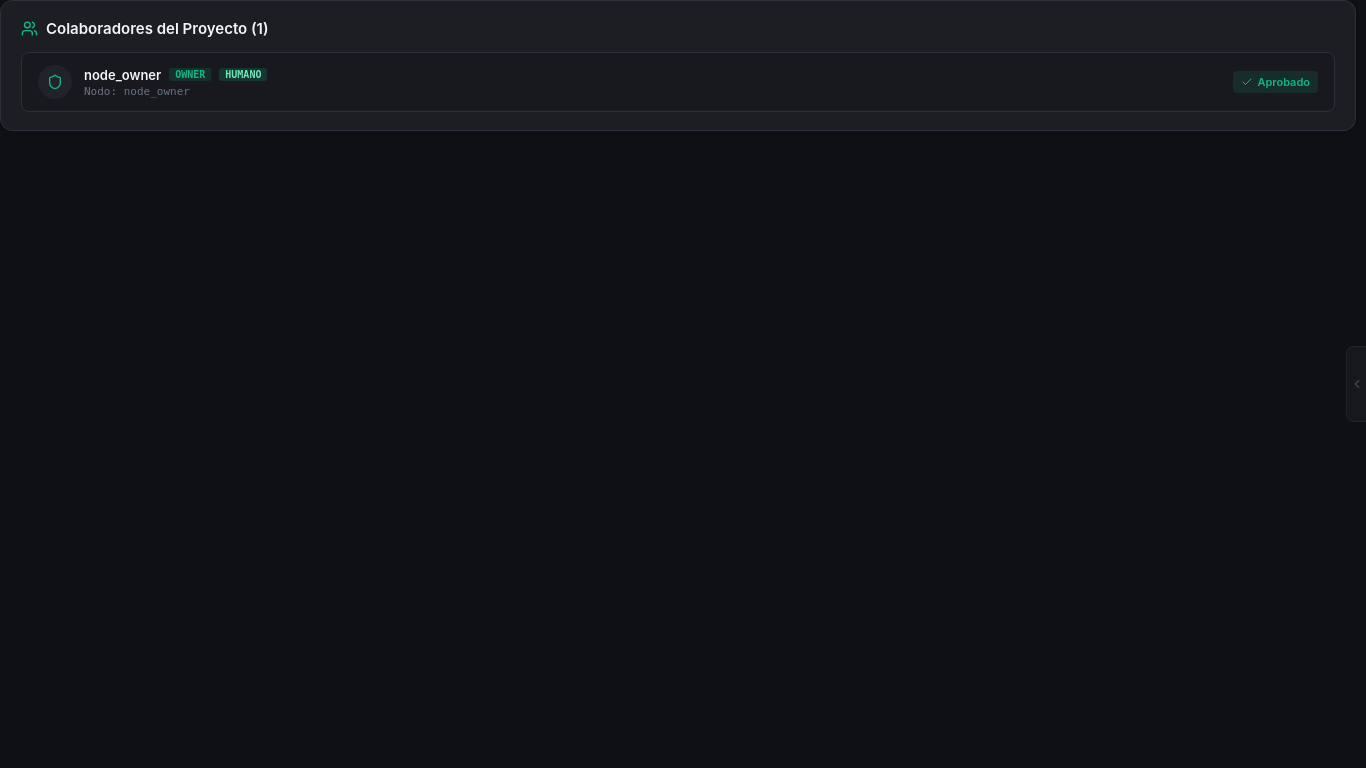
Test: CollaboratorsView - pegar código de solicitud (ingesta manual, nivel 2) › muestra un error de comunicación si la llamada lanza
This screenshot has width=1366, height=768.
Click the button with test id "view-slider-tab" at (1356, 384), box [1346,346,1365,422]
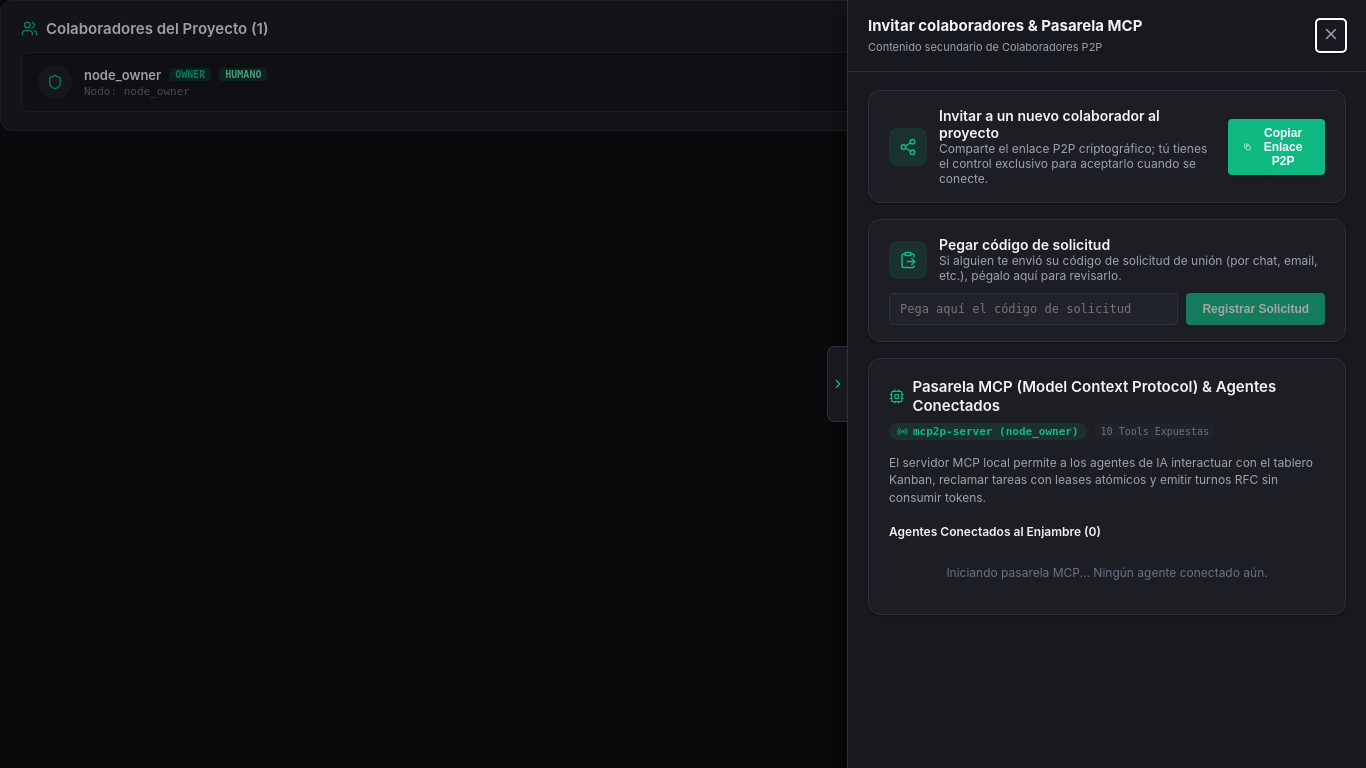
Type "req_code_x" into the field named "Código de solicitud de unión" at (1034, 309), box [889,293,1178,325]
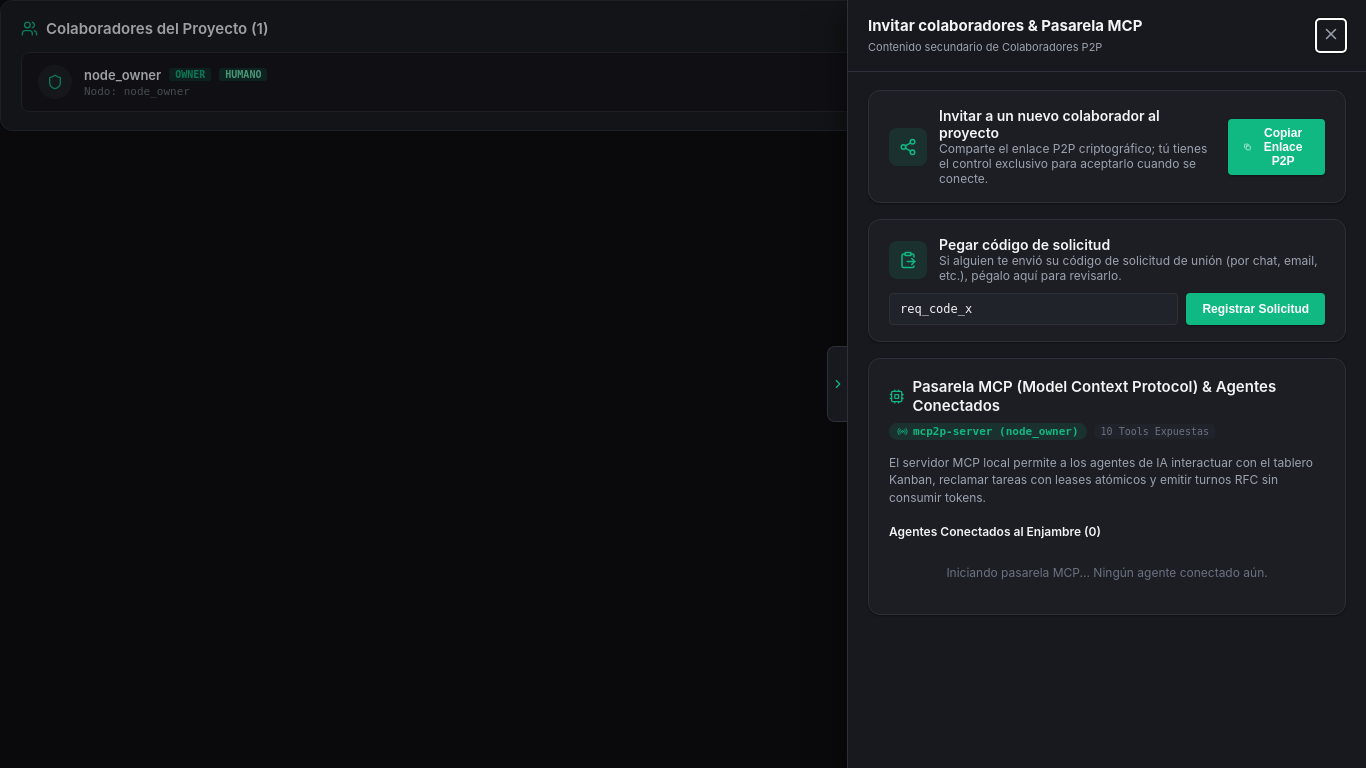
Click the button "Registrar Solicitud" at (1256, 309), box [1186,293,1325,325]
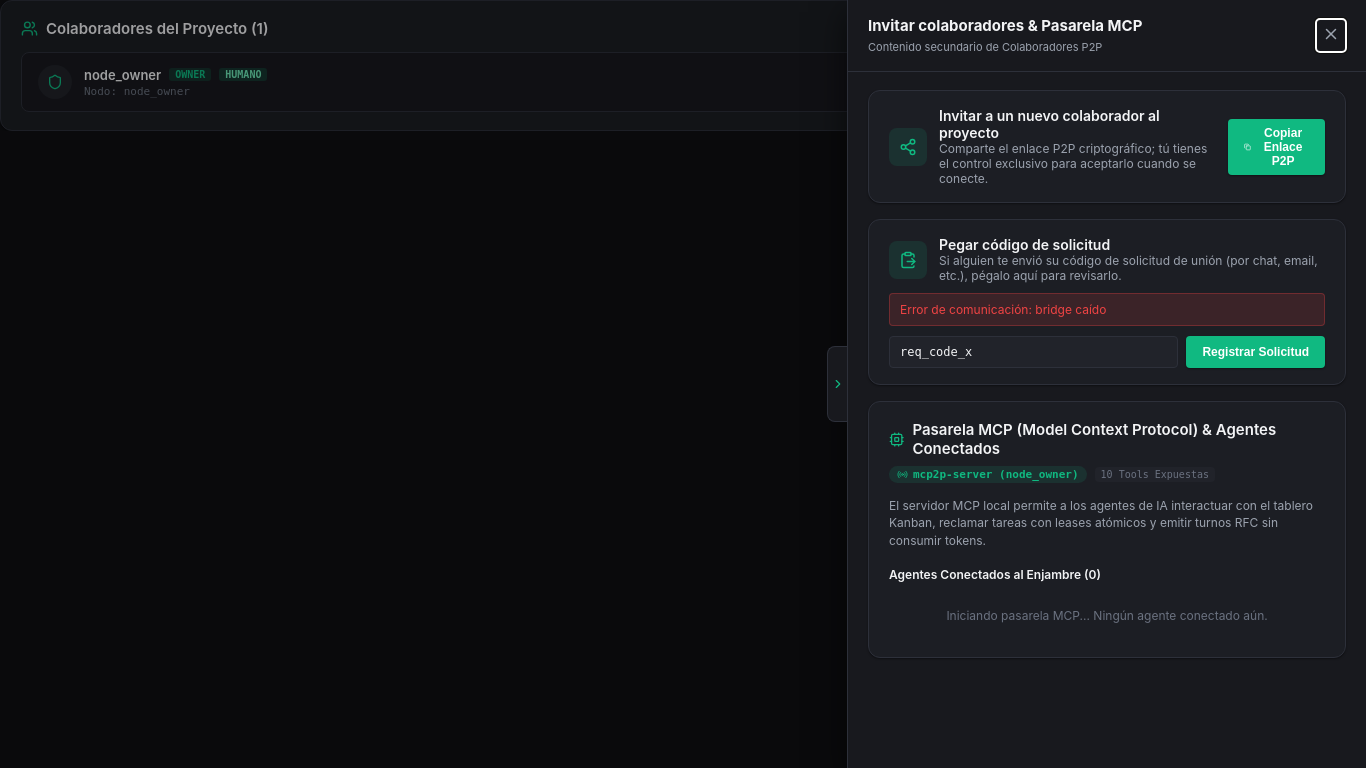
Now the message with test id "ingest-request-code-message" shows "bridge caído", box [900,302,1106,317]
